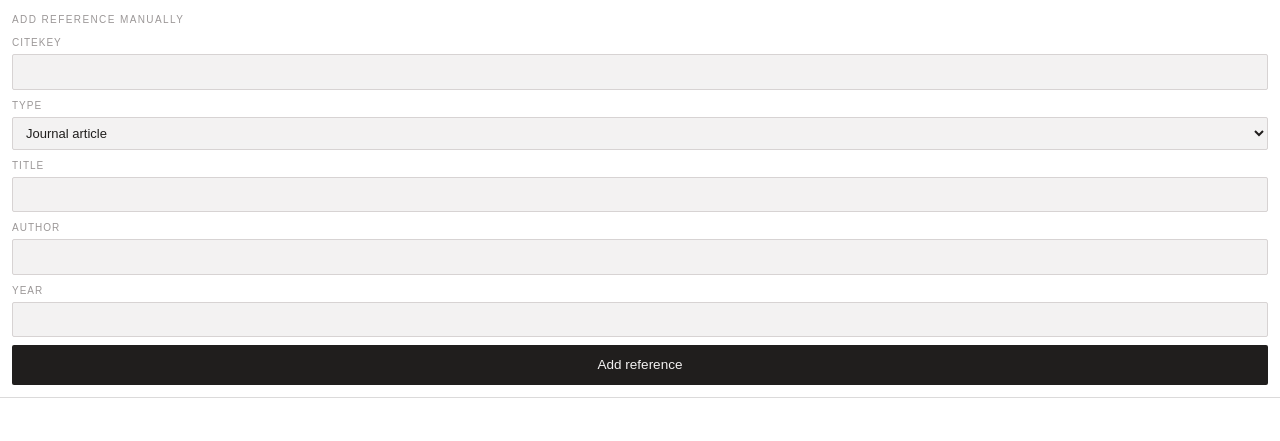
Test case: persisted reference library UI › does not silently discard an invalid manually entered year
Type "invalid-year" into the field labelled "citeKey" at (640, 72), box x1=12 y1=54 x2=1268 y2=90
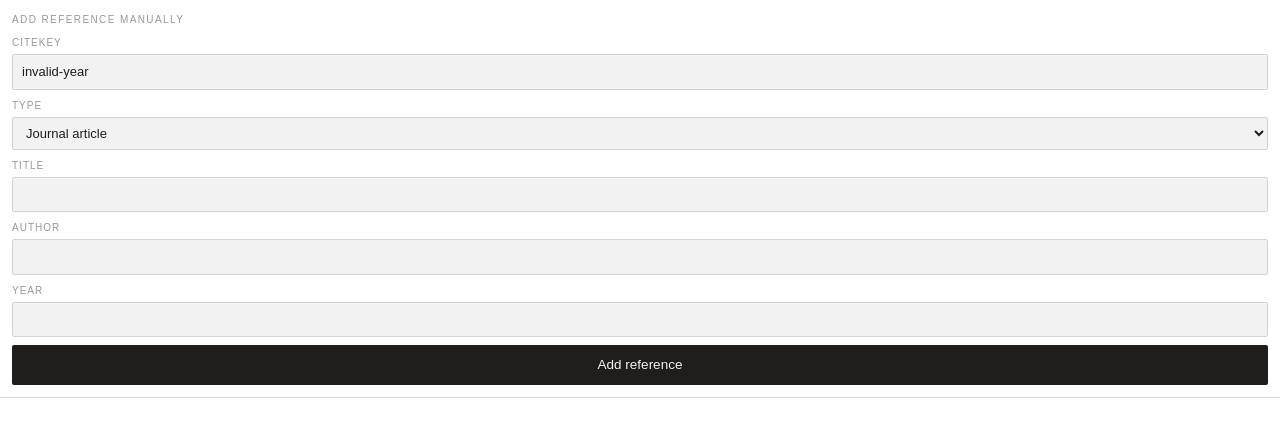
Type "Manual reference" into the field named "Reference title" at (640, 194), box x1=12 y1=176 x2=1268 y2=212
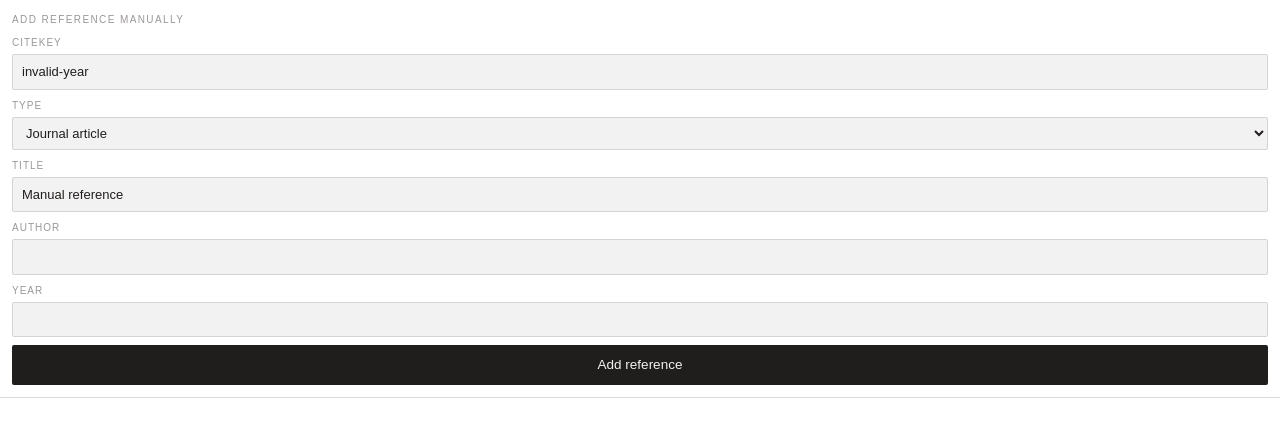
Type "2024.5" into the field named "Reference year" at (640, 319), box x1=12 y1=302 x2=1268 y2=337
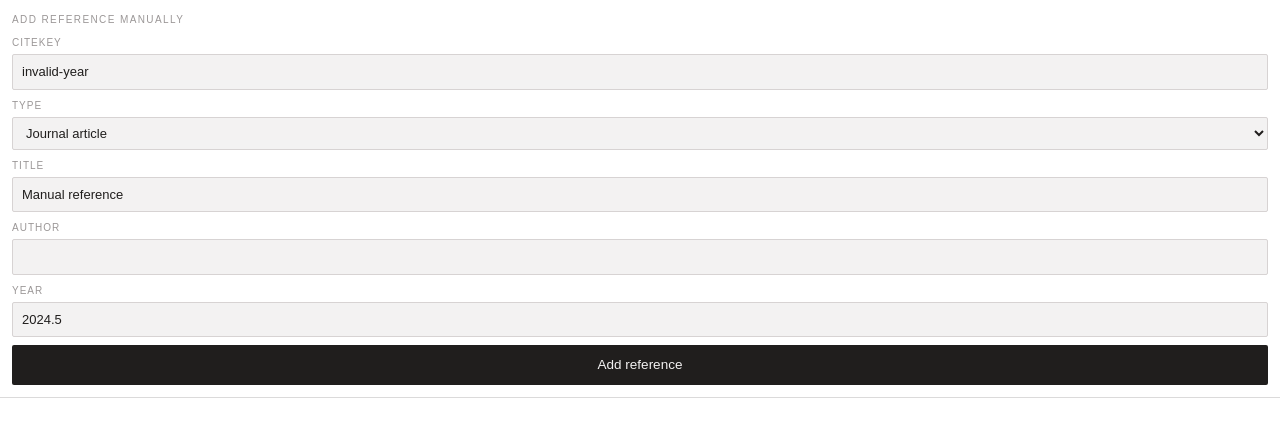
Click the button "Add reference" at (640, 365), box x1=12 y1=345 x2=1268 y2=385
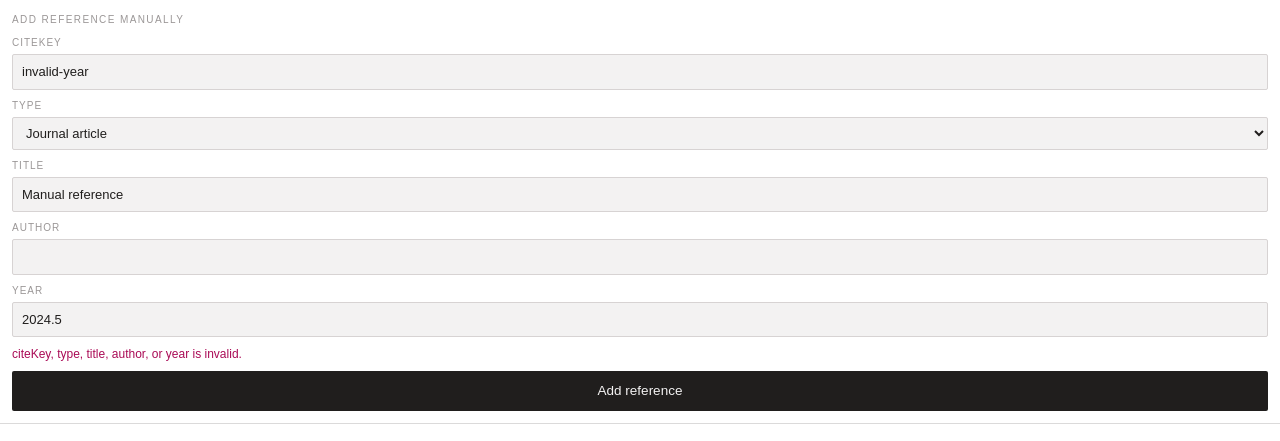
Result: the message shows "year is invalid" at x1=12 y1=347 x2=242 y2=361
